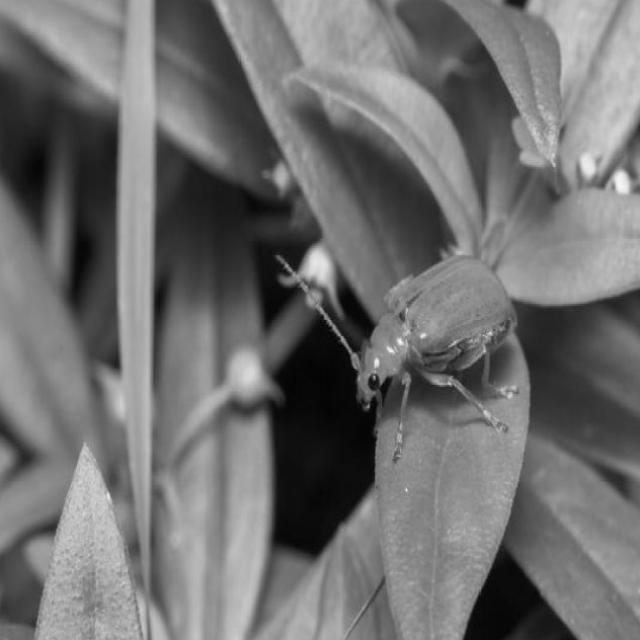Pumpkin Beetle: (264, 239, 529, 475)
